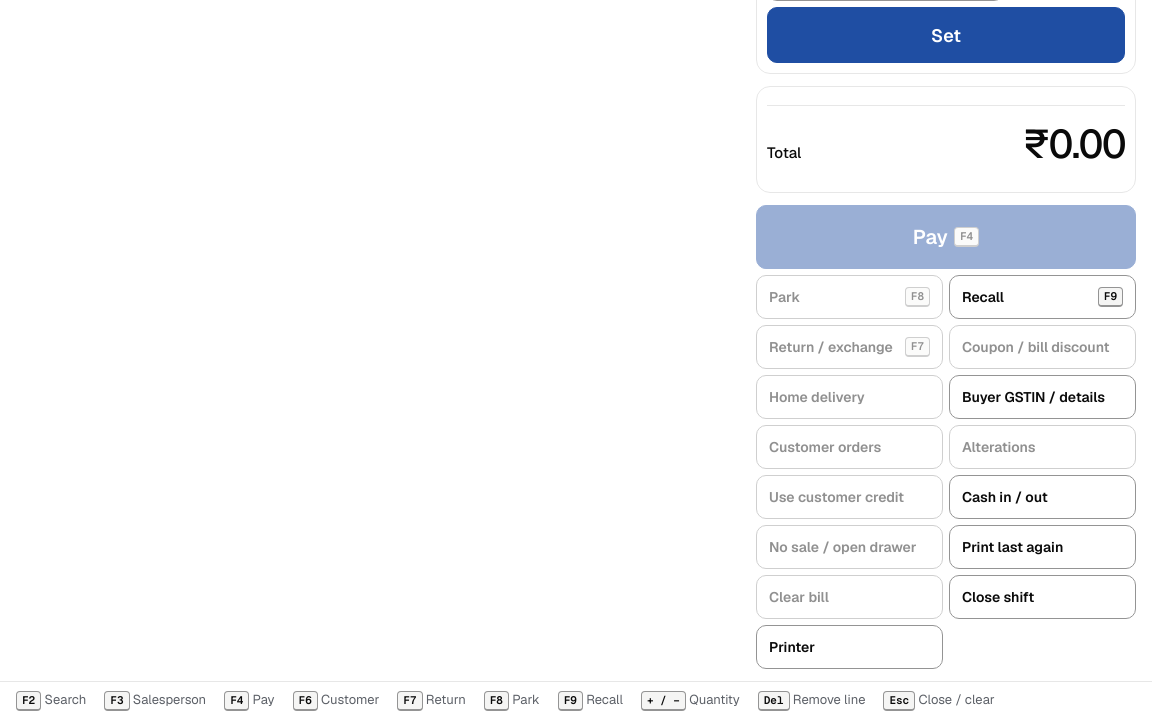
Test: the till offline › refuses to close the shift while a bill waits to be sent, saying how many
(page scrolled)
Step 1. Click the button "Close shift" → point(1042, 597), box [949,575,1136,619]
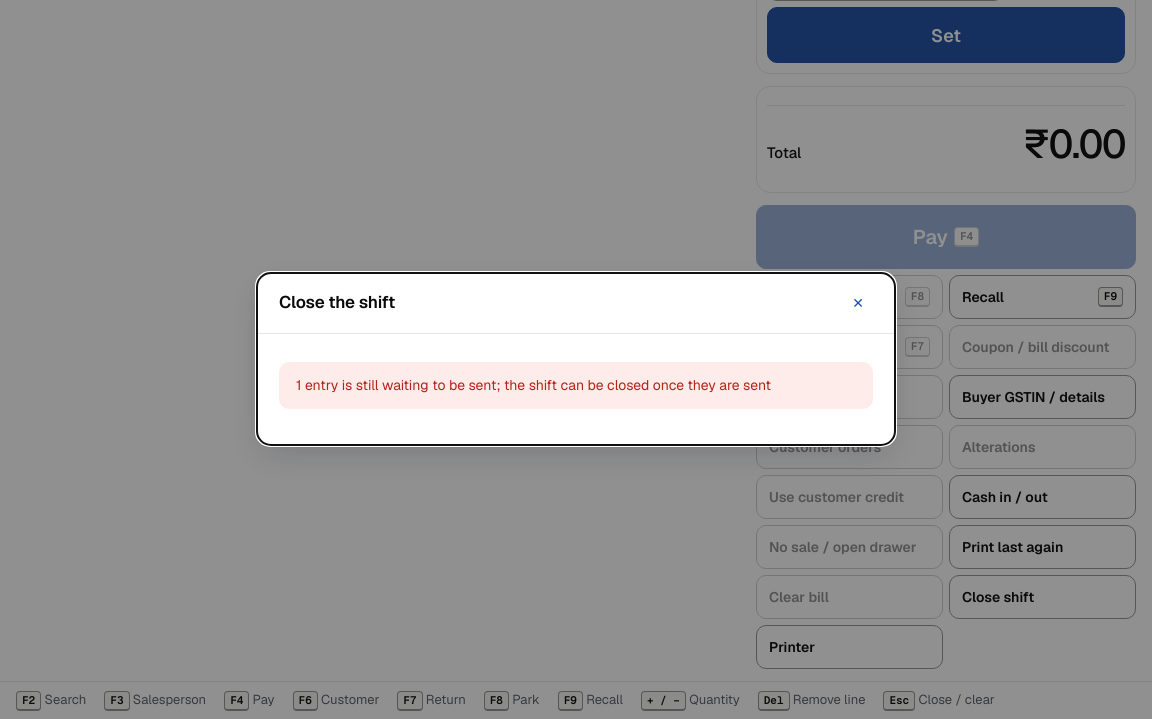
expect the text "1 entry is still waiting to be sent" is shown: met, box [296,376,771,394]
